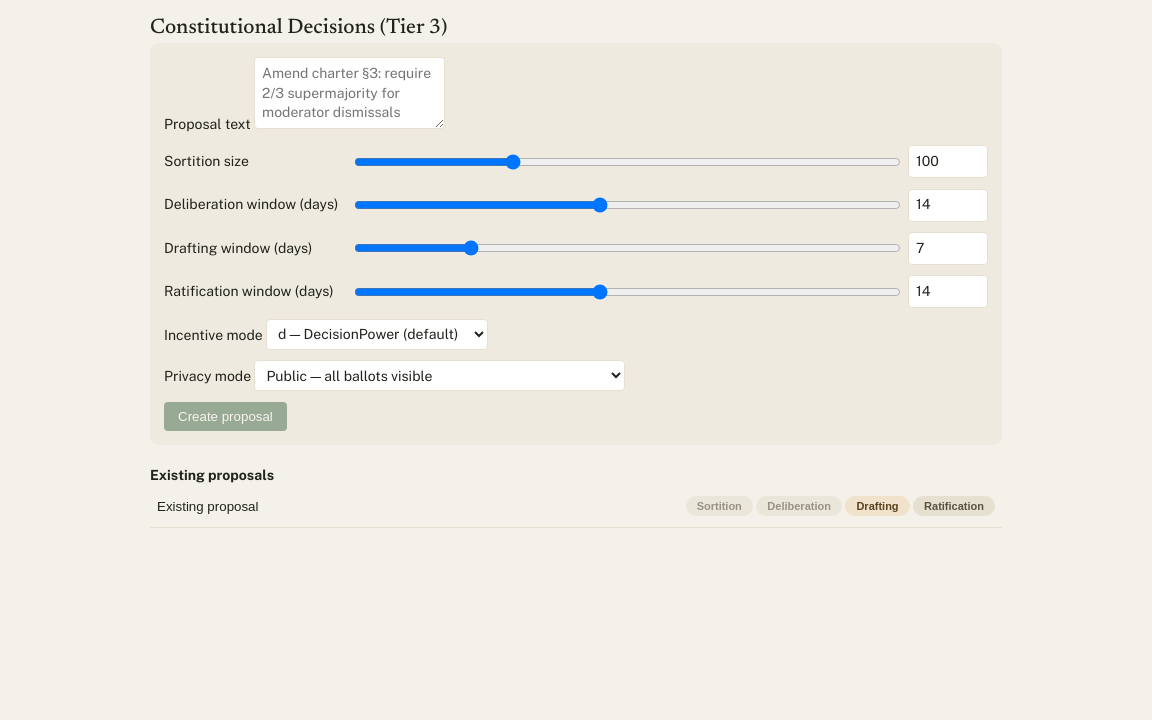
Tier3ProposalPanel › shows Relaunch for an admin (myPower >= 100) even when not the creator
Click the text "Existing proposal" at (208, 506), box [157,498,258,514]
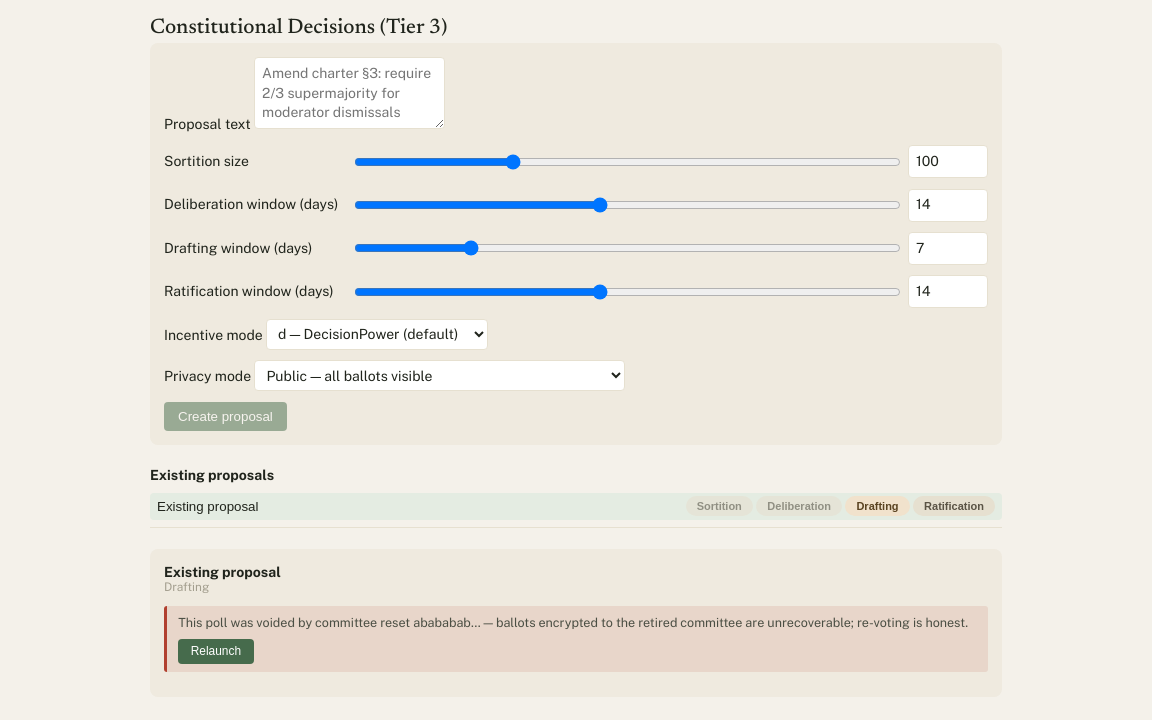
Check: the message with test id "voided-banner" is shown, box [164,606,988,672]
Check: the button "Relaunch" is shown, box [178,639,254,664]
